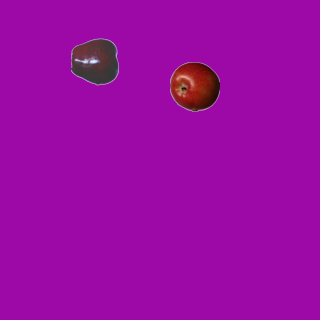Apple Braeburn: (169, 61, 219, 111)
Apple Red Delicious: (70, 36, 120, 86)
